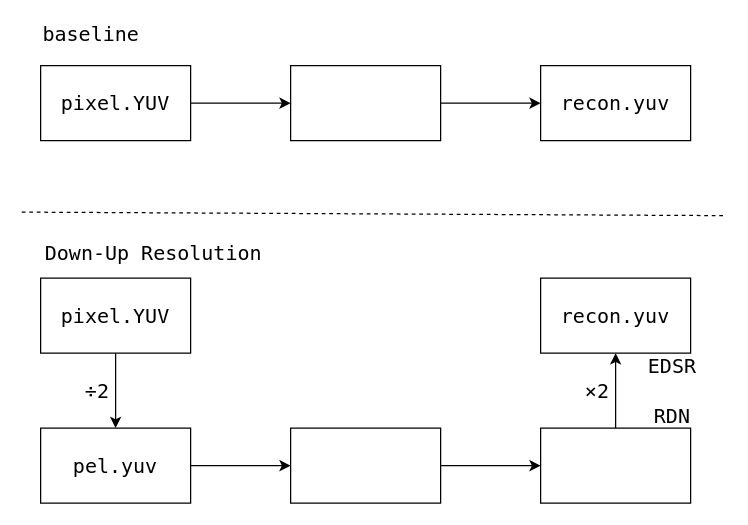
Some shapes in this 748 by 525 pixel diagram are drawn without their labels. The shapes that lost their labels are listed below. From the top down, each one's box as (x1, y1, x2, y2) in pixels, then its label:
(289, 64, 441, 141): binary.x265 (superfast)
(289, 427, 441, 503): bin.x265 (medium)
(539, 427, 691, 503): rec.yuv
